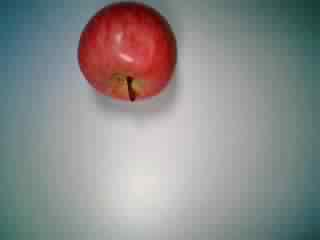apple: (72, 3, 178, 107)
